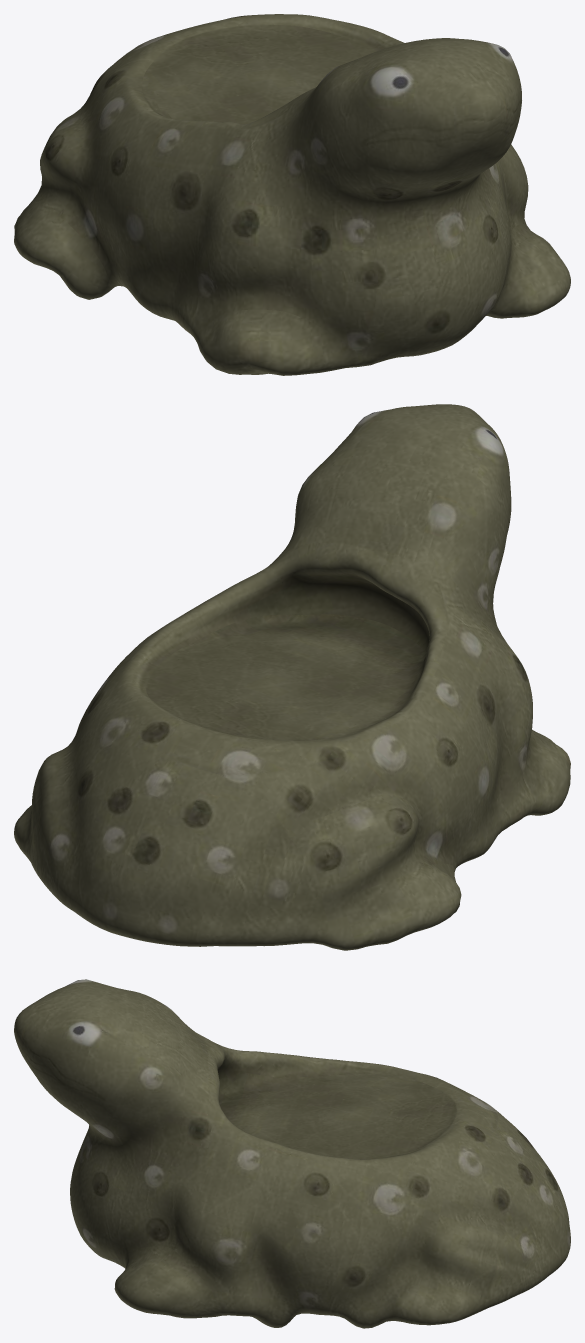
File: toad.glb
3 renders of one model, top to bottom at view 1: azimuth 30°, elevation 25°; view 2: azimuth 150°, elevation 25°; view 3: azimuth 270°, elevation 25°, orthographic. The views are drawn at different scales.
Parts seen in each view (by area): view 1: SM_ToadInkStone; view 2: SM_ToadInkStone; view 3: SM_ToadInkStone.
Boxes of the visible parts, box(x1,y1,x2,y2) form: SM_ToadInkStone: box(14, 14, 570, 375); SM_ToadInkStone: box(14, 404, 570, 950); SM_ToadInkStone: box(14, 979, 570, 1328).
Bounding box in the file's own units: 0.1859 × 0.1418 × 0.2612.
1 material, 1 textured.
